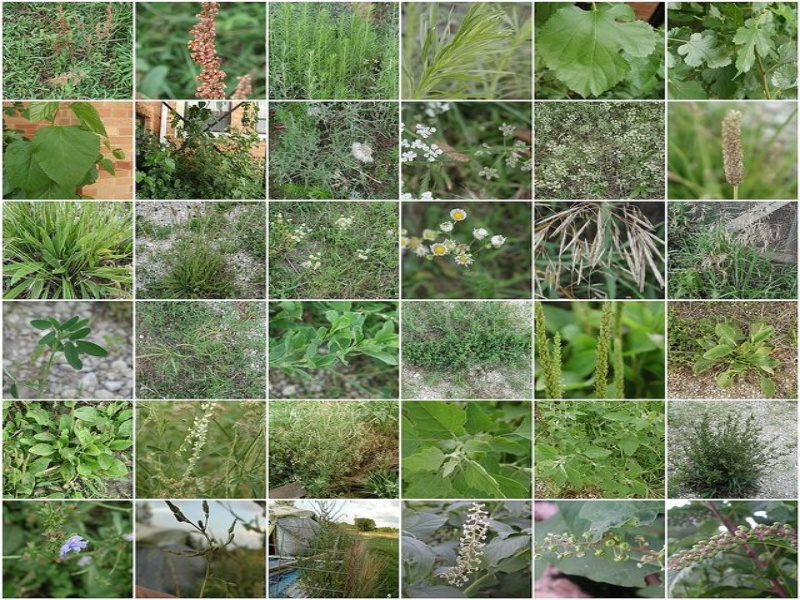weed: (542, 2, 653, 90), (405, 406, 518, 488), (677, 11, 786, 84), (680, 419, 775, 492), (26, 411, 124, 481), (11, 126, 102, 197), (697, 321, 778, 387), (33, 316, 110, 369), (538, 437, 607, 487)
